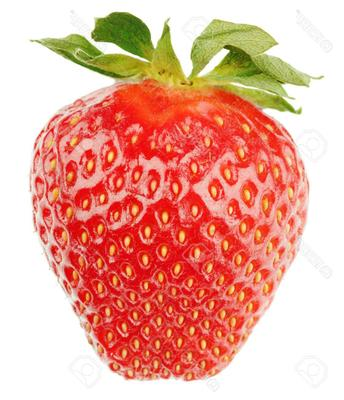strawberry: (0, 0, 344, 400)
